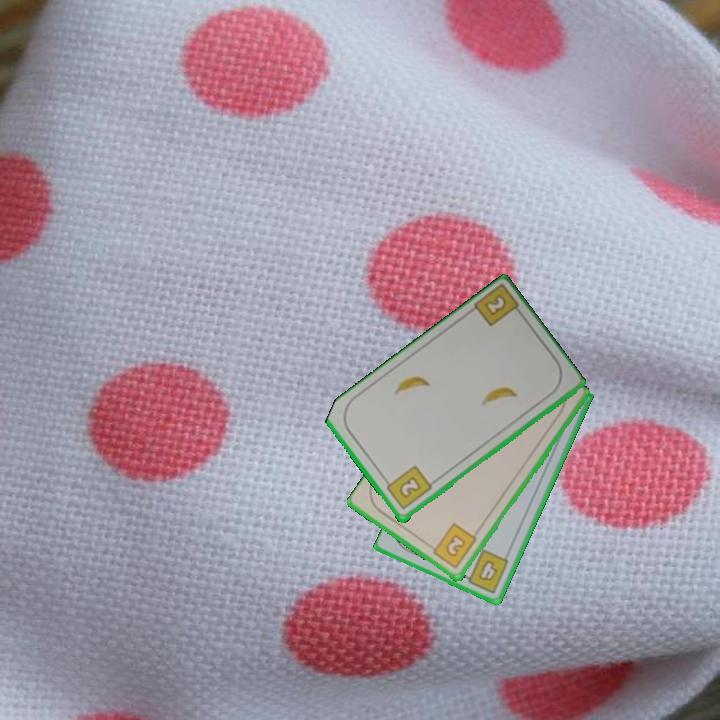2b: (425, 520, 480, 572), (381, 462, 435, 513), (481, 291, 509, 319)
4b: (459, 546, 512, 596)
